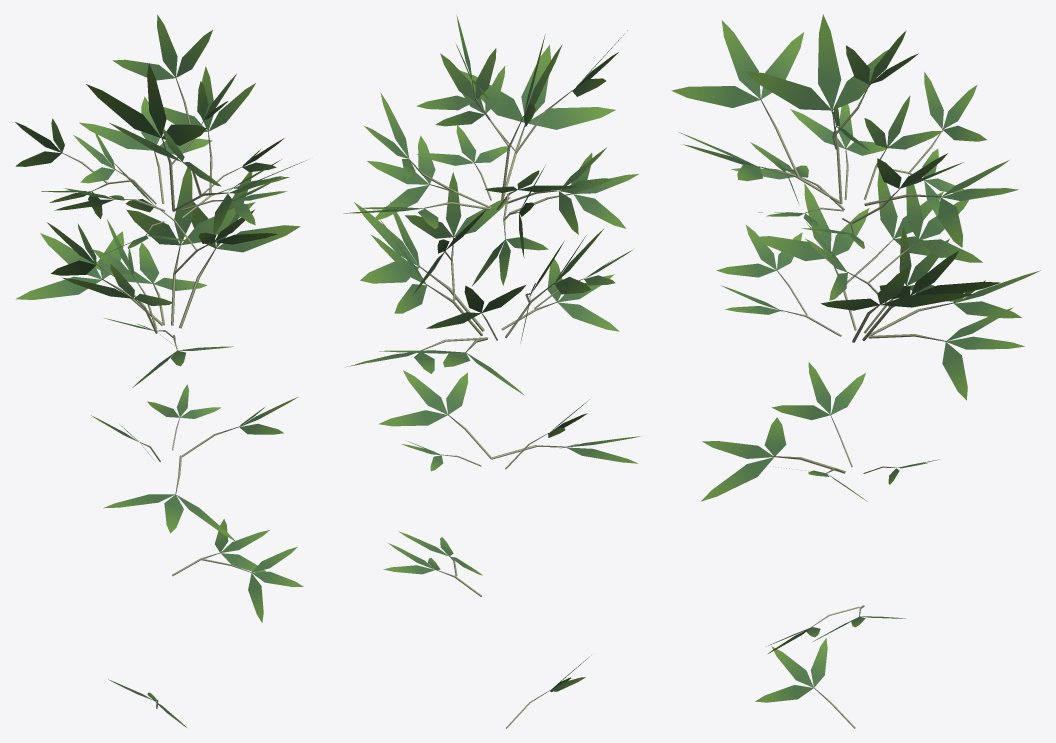
The picture shows the model from 3 angles, left to right: view 1: azimuth 30°, elevation 25°; view 2: azimuth 150°, elevation 25°; view 3: azimuth 270°, elevation 25°; orthographic projection. The views are drawn at different scales.
Parts seen in each view (by area): view 1: plant.003; view 2: plant.003; view 3: plant.003.
Part boxes in pixels (x1,y1,x2,y2): plant.003: (15,14,306,727); plant.003: (343,15,640,728); plant.003: (671,14,1040,728).
Bounding box in the file's own units: 0.178 × 0.5 × 0.236.
